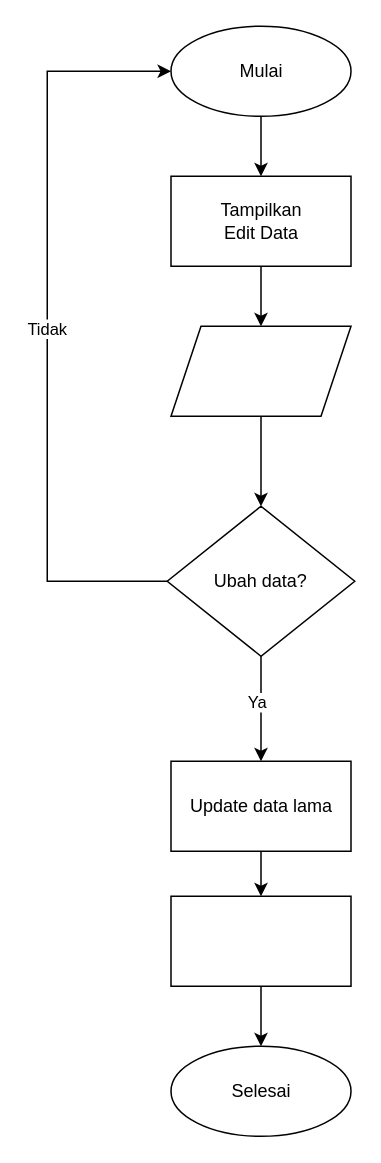
Some shapes in this 381 by 1163 pixel diagram are drawn without their labels. Each missing label, with the box of its shape:
Input data baru: (170, 325, 351, 416)
Operasi ke database: (170, 895, 351, 986)
